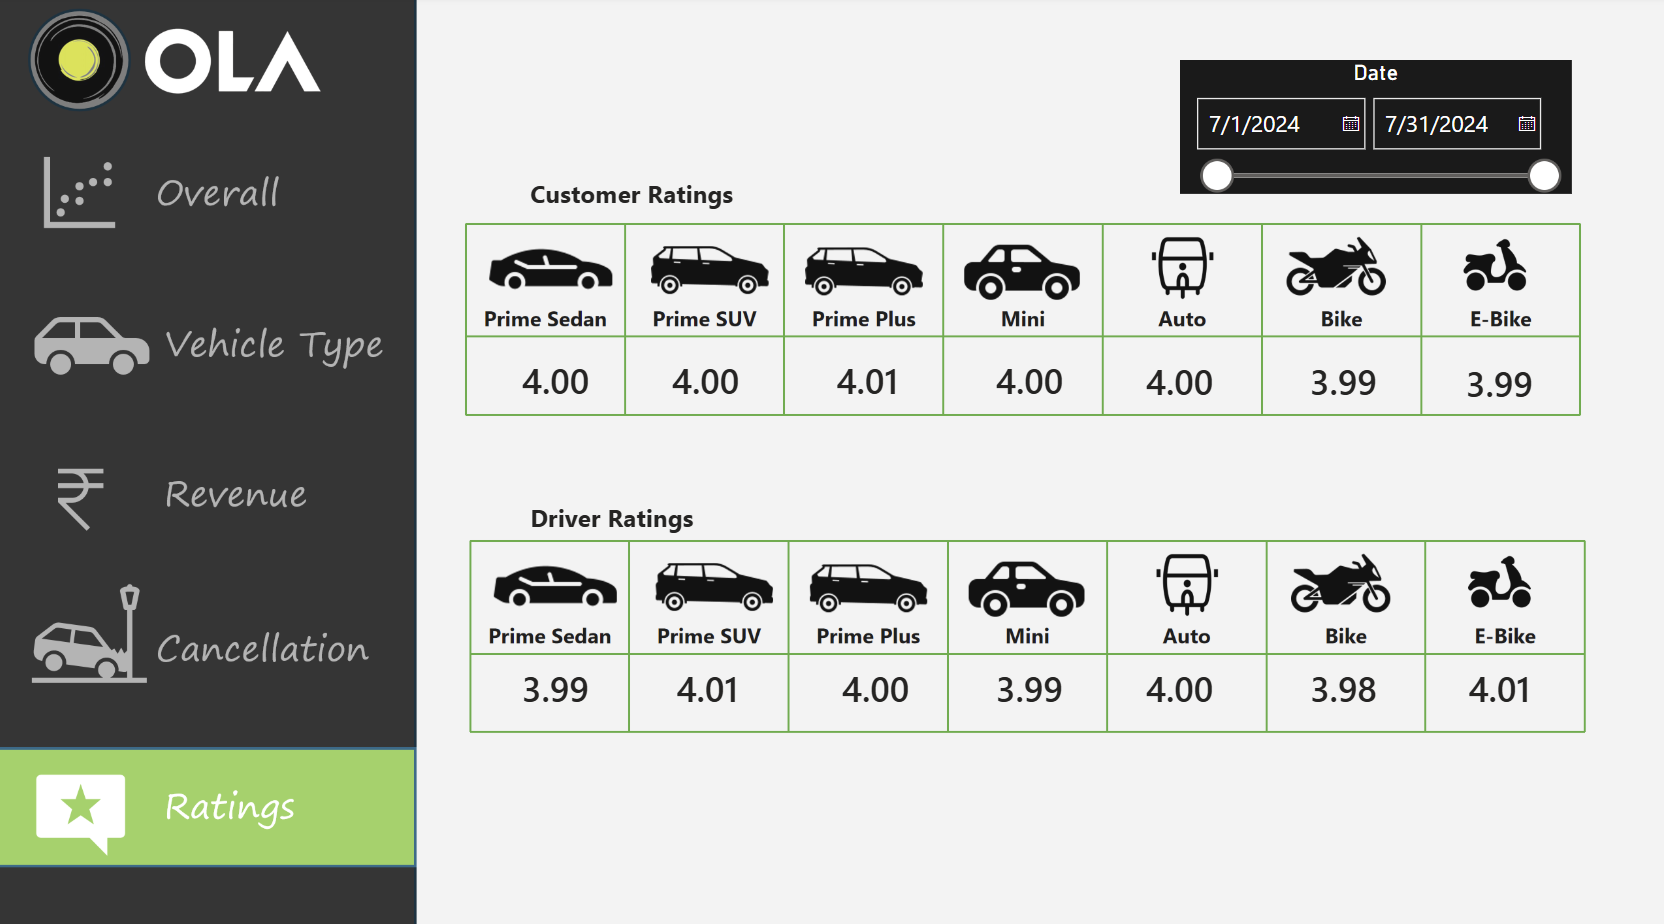

The page's visual inventory and layout, read from the dashboard file:
{"tool":"powerbi","page":{"name":"Ratings","canvas":[1280,720],"ordinal":4},"visuals":[{"type":"actionButton","box":[0,229.8,321.9,89.9],"z":0},{"type":"actionButton","box":[0,339,321.9,89.9],"z":1000},{"type":"actionButton","box":[0,449.3,321.9,89.9],"z":2000},{"type":"actionButton","box":[0,108.1,321.9,89.9],"z":3000},{"type":"cardVisual","fields":{"Data":["Avg(July.Customer_Rating)"]},"box":[358.3,258.3,143.3,70],"z":4000},{"type":"cardVisual","fields":{"Data":["Avg(July.Customer_Rating)"]},"box":[473.3,258.3,143.3,70],"z":5000},{"type":"cardVisual","fields":{"Data":["Avg(July.Customer_Rating)"]},"box":[596.7,258.3,143.3,70],"z":6000},{"type":"cardVisual","fields":{"Data":["Avg(July.Customer_Rating)"]},"box":[721.7,258.3,143.3,70],"z":7000},{"type":"cardVisual","fields":{"Data":["Avg(July.Customer_Rating)"]},"box":[836.7,258.3,143.3,71.7],"z":8000},{"type":"cardVisual","fields":{"Data":["Avg(July.Customer_Rating)"]},"box":[961.7,258.3,143.3,71.7],"z":9000},{"type":"cardVisual","fields":{"Data":["Avg(July.Customer_Rating)"]},"box":[1081.7,260,143.3,71.7],"z":10000},{"type":"textbox","box":[358.3,135,260,36.7],"z":11000},{"type":"textbox","box":[343.3,383.3,260,36.7],"z":12000},{"type":"cardVisual","fields":{"Data":["Avg(July.Driver_Ratings)"]},"box":[358.3,495,143.3,70],"z":13000},{"type":"cardVisual","fields":{"Data":["Avg(July.Driver_Ratings)"]},"box":[603.3,495,143.3,70],"z":14000},{"type":"cardVisual","fields":{"Data":["Avg(July.Driver_Ratings)"]},"box":[721.7,495,143.3,70],"z":15000},{"type":"cardVisual","fields":{"Data":["Avg(July.Driver_Ratings)"]},"box":[836.7,495,143.3,70],"z":16000},{"type":"cardVisual","fields":{"Data":["Avg(July.Driver_Ratings)"]},"box":[961.7,495,143.3,70],"z":17000},{"type":"cardVisual","fields":{"Data":["Avg(July.Driver_Ratings)"]},"box":[1081.7,495,143.3,70],"z":18000},{"type":"cardVisual","fields":{"Data":["Avg(July.Driver_Ratings)"]},"box":[475,495,143.3,70],"z":19000},{"type":"slicer","title":"Date","fields":{"Values":["Bookings1.Date"]},"box":[907.9,50.5,300.1,102.6],"z":19001}]}

Visuals, with their boxes on the page's 1280x720 design canvas (x1, y1, x2, y2). These are canvas units, not pixel positions in the 1664x924 screenshot, which may show the page scaled, cropped or inside an application window:
actionButton: x1=0, y1=230, x2=322, y2=320
actionButton: x1=0, y1=339, x2=322, y2=429
actionButton: x1=0, y1=449, x2=322, y2=539
actionButton: x1=0, y1=108, x2=322, y2=198
cardVisual - Avg(July.Customer_Rating): x1=358, y1=258, x2=502, y2=328
cardVisual - Avg(July.Customer_Rating): x1=473, y1=258, x2=617, y2=328
cardVisual - Avg(July.Customer_Rating): x1=597, y1=258, x2=740, y2=328
cardVisual - Avg(July.Customer_Rating): x1=722, y1=258, x2=865, y2=328
cardVisual - Avg(July.Customer_Rating): x1=837, y1=258, x2=980, y2=330
cardVisual - Avg(July.Customer_Rating): x1=962, y1=258, x2=1105, y2=330
cardVisual - Avg(July.Customer_Rating): x1=1082, y1=260, x2=1225, y2=332
textbox: x1=358, y1=135, x2=618, y2=172
textbox: x1=343, y1=383, x2=603, y2=420
cardVisual - Avg(July.Driver_Ratings): x1=358, y1=495, x2=502, y2=565
cardVisual - Avg(July.Driver_Ratings): x1=603, y1=495, x2=747, y2=565
cardVisual - Avg(July.Driver_Ratings): x1=722, y1=495, x2=865, y2=565
cardVisual - Avg(July.Driver_Ratings): x1=837, y1=495, x2=980, y2=565
cardVisual - Avg(July.Driver_Ratings): x1=962, y1=495, x2=1105, y2=565
cardVisual - Avg(July.Driver_Ratings): x1=1082, y1=495, x2=1225, y2=565
cardVisual - Avg(July.Driver_Ratings): x1=475, y1=495, x2=618, y2=565
"Date" slicer: x1=908, y1=50, x2=1208, y2=153
